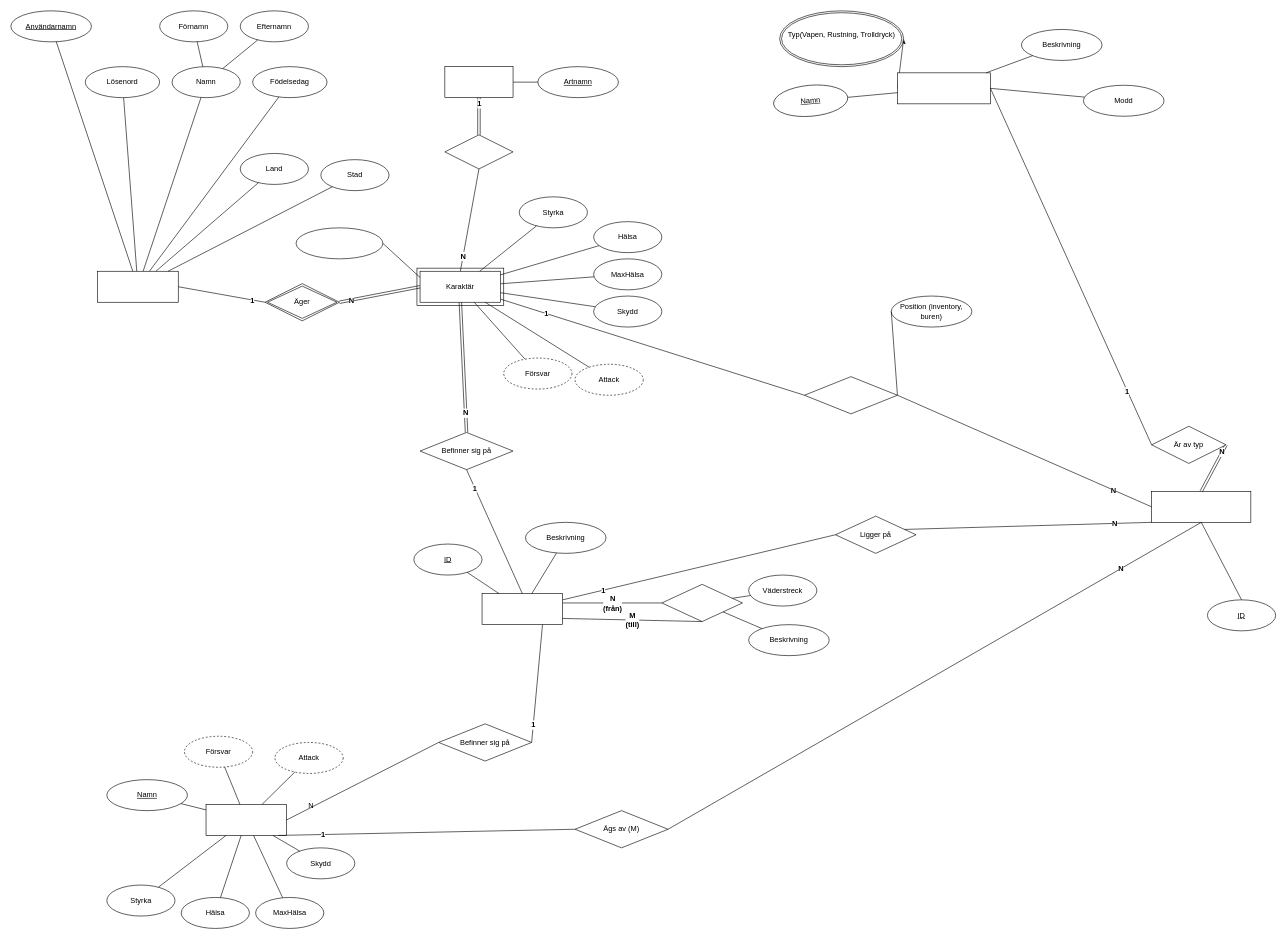
The diagram is 1287 pixels wide and 939 high, and some of its shapes have lost their labels. The box of each missing label's shape, as (x1, y1, x2, y2) in pixels:
Användare: (97, 271, 178, 302)
Art: (444, 66, 513, 98)
Föremål: (897, 72, 990, 104)
Föremålsinstans: (1151, 491, 1251, 522)
Karaktärsnamn: (295, 227, 383, 259)
Monster: (205, 804, 287, 835)
Plats: (481, 593, 563, 625)
Stig: (661, 584, 742, 622)
Ägs av: (804, 376, 897, 414)
är av: (444, 134, 513, 169)
